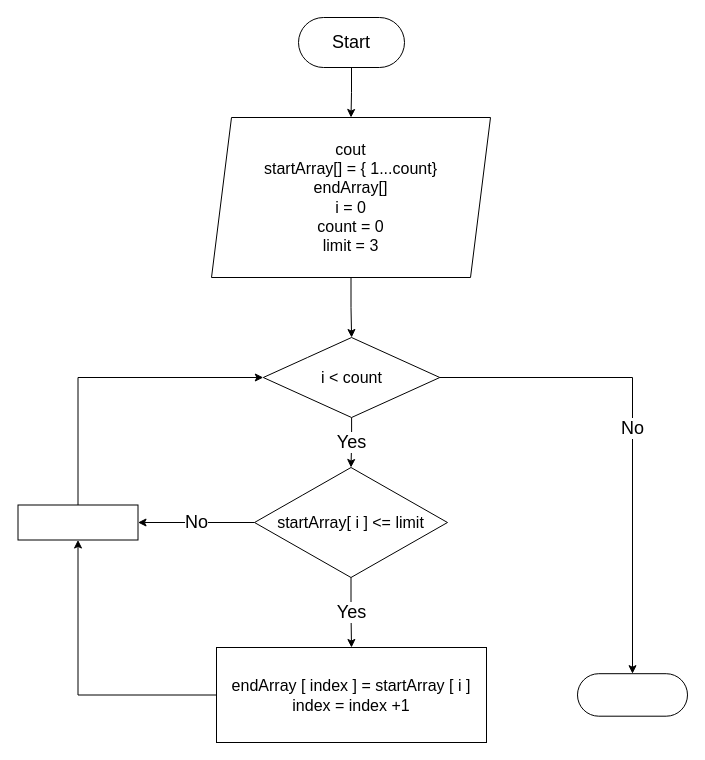
Some shapes in this 705 by 760 pixel diagram are drawn without their labels. The centre of each missing label's shape, as x and y in pixels:
"End" goes at pixel 632 694.
"i = i + 1" goes at pixel 77 522.
